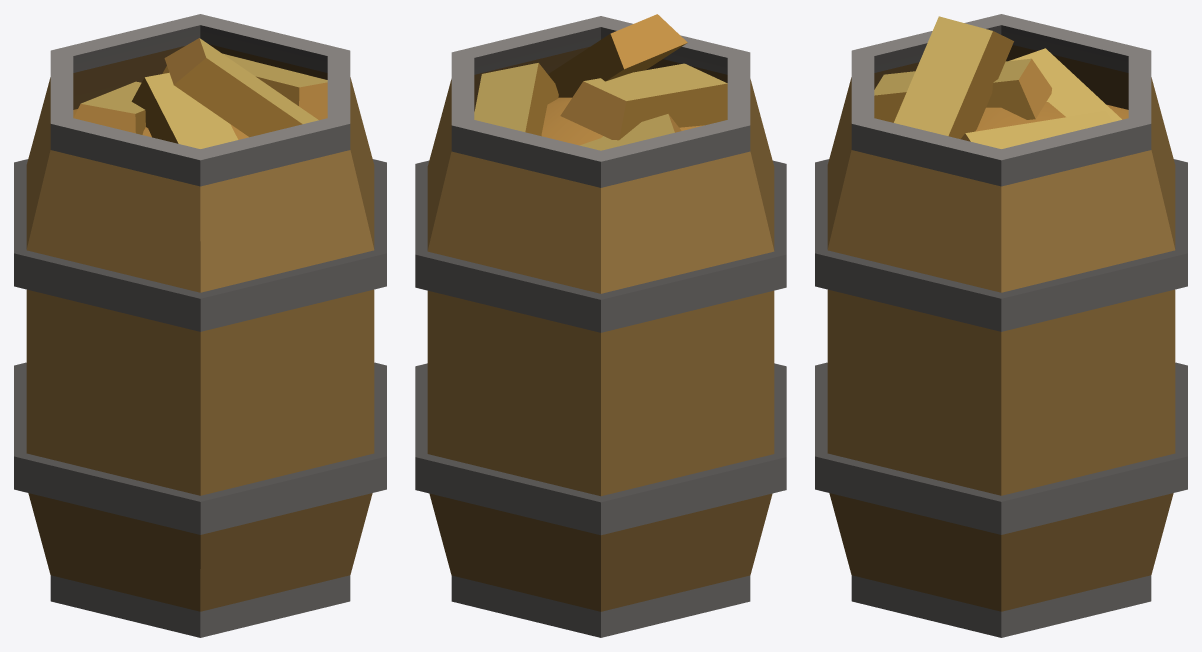
Rendered from Barrel_Gold.gltf.
3 renders of one model, left to right at view 1: azimuth 30°, elevation 25°; view 2: azimuth 150°, elevation 25°; view 3: azimuth 270°, elevation 25°, orthographic.
Parts seen in each view (by area): view 1: SF_Prop_Barrel_Gold_01; view 2: SF_Prop_Barrel_Gold_01; view 3: SF_Prop_Barrel_Gold_01.
Boxes of the visible parts, x1,y1,x2,y2 form: SF_Prop_Barrel_Gold_01: [14, 14, 386, 637]; SF_Prop_Barrel_Gold_01: [415, 14, 786, 637]; SF_Prop_Barrel_Gold_01: [815, 14, 1187, 637].
Size of the model in its own units: 0.0166 by 0.0228 by 0.0144.
Materials: 1 (1 with a texture image).
